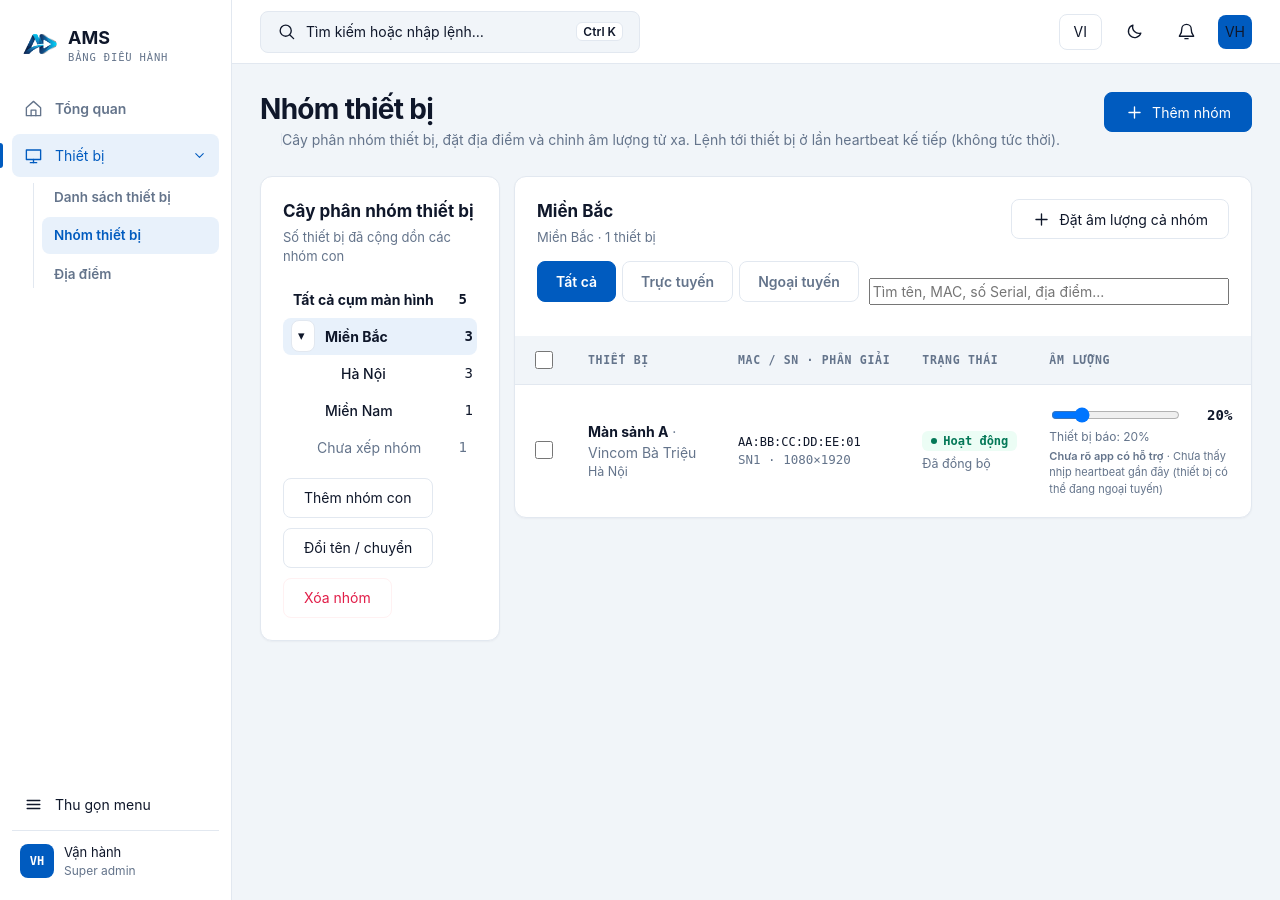
it: d-tree: trang Nhóm thiết bị › đặt âm lượng cả nhóm -> POST /device-groups/:id/volume và báo thiết bị bị bỏ qua
Click the button "Đặt âm lượng cả nhóm" at coordinates (1120, 219), box left=1011, top=199, right=1229, bottom=239
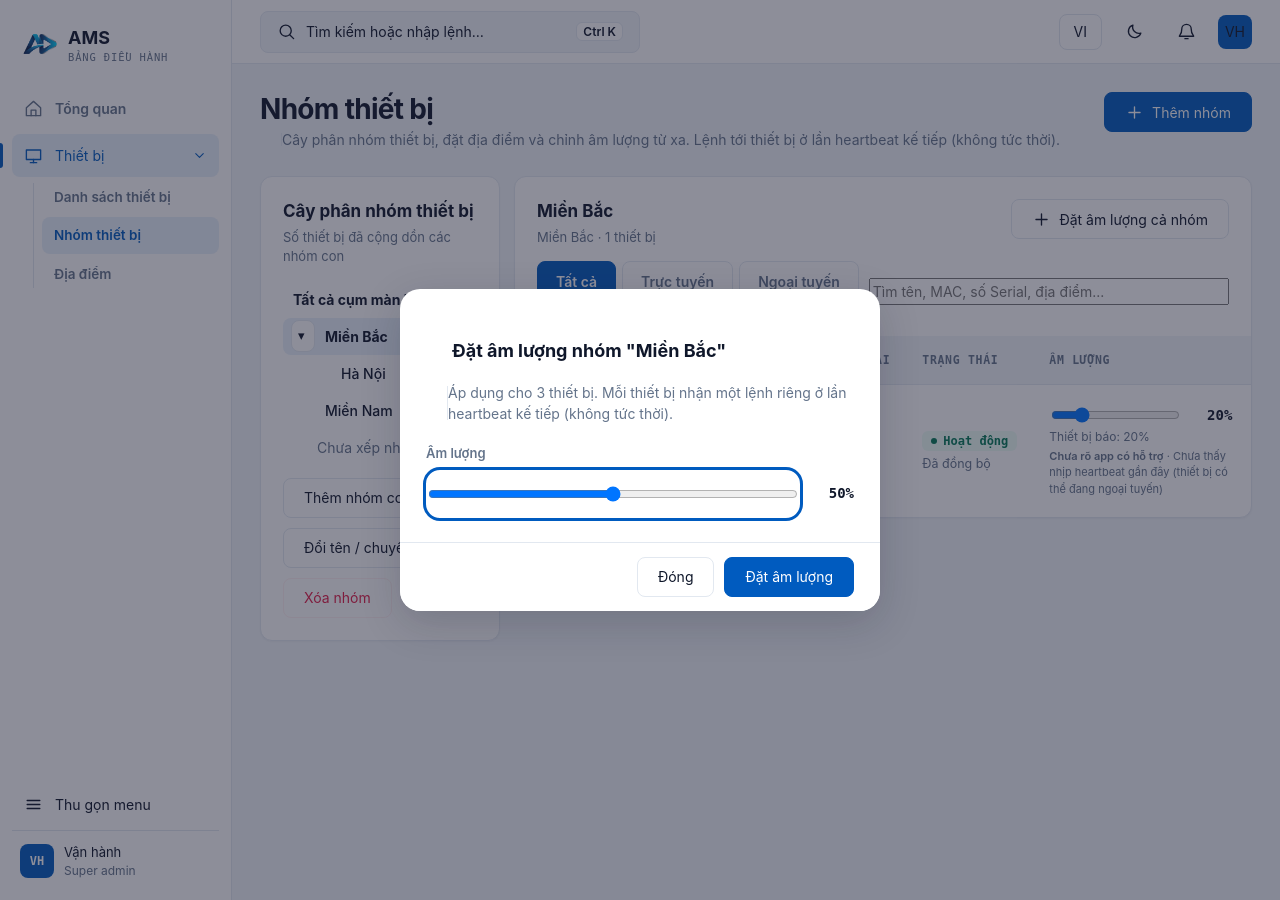
Set the slider named "Âm lượng hàng loạt" to "70" at coordinates (684, 494), box left=428, top=472, right=798, bottom=516
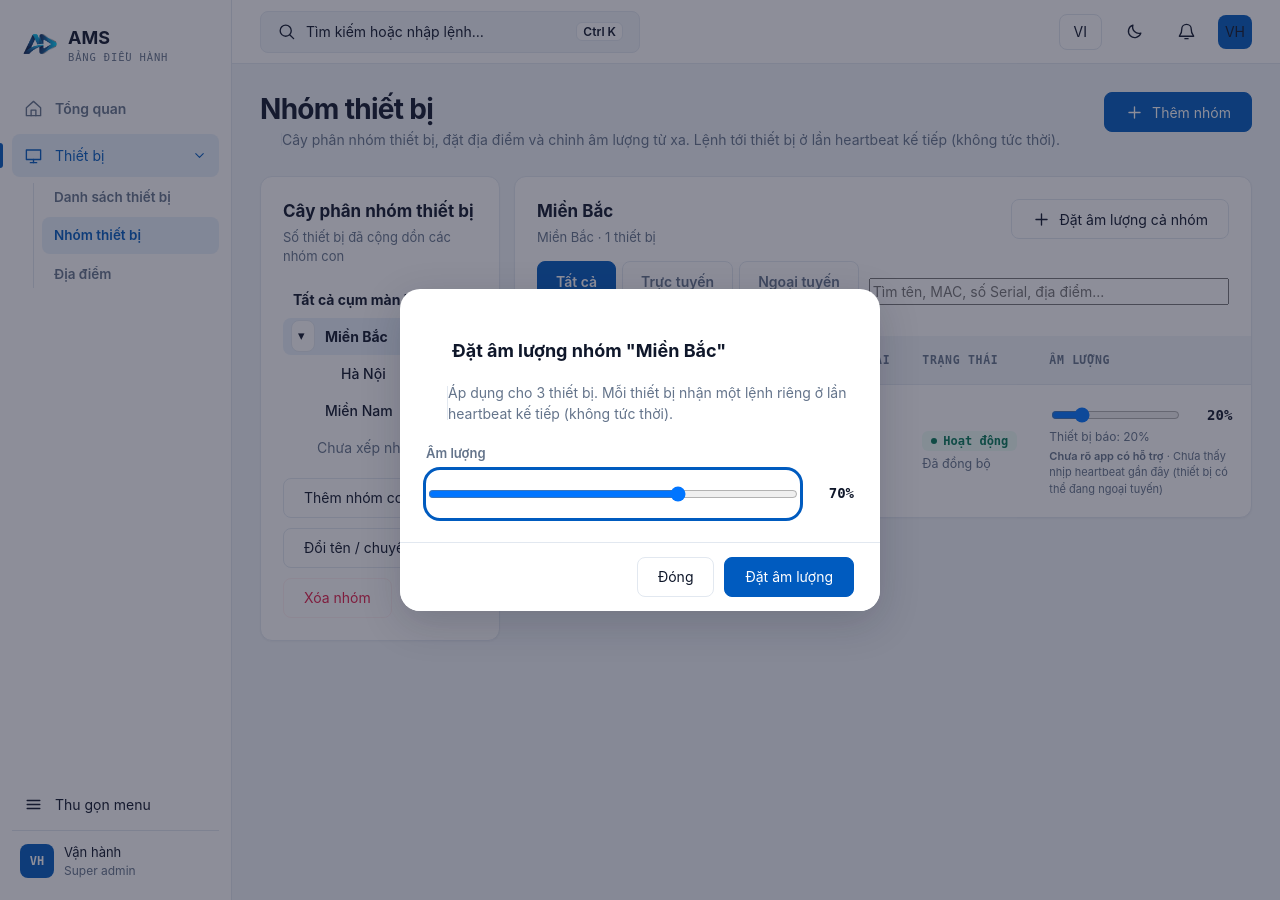
Click the button "Đặt âm lượng" at coordinates (789, 577), box left=724, top=557, right=854, bottom=597
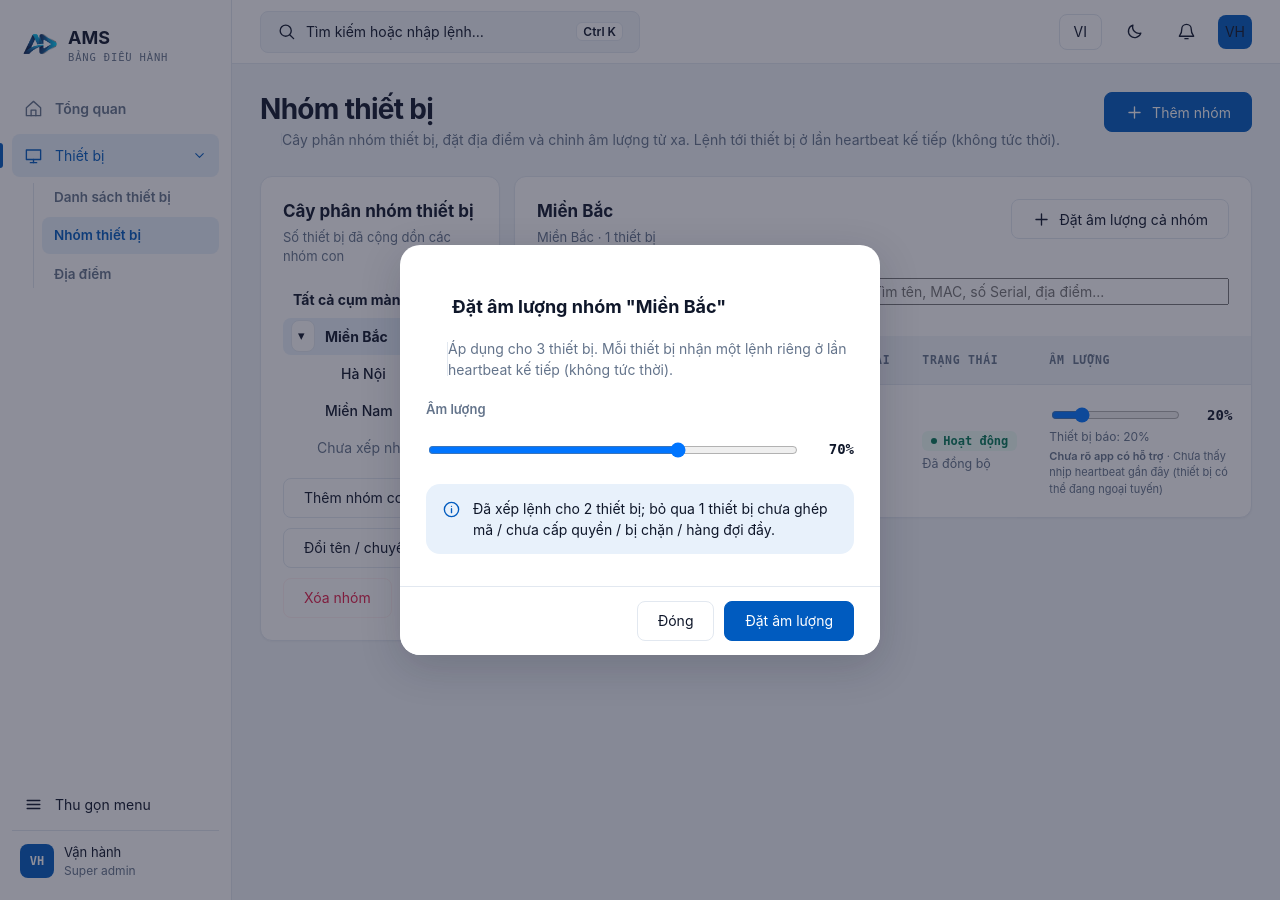
expect the text "Đã xếp lệnh cho 2 thiết bị; bỏ qua 1" is shown: met, box left=473, top=500, right=828, bottom=538
